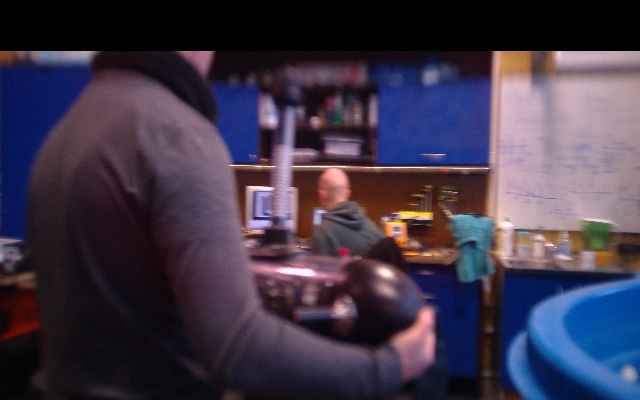black: (270, 130, 294, 238)
